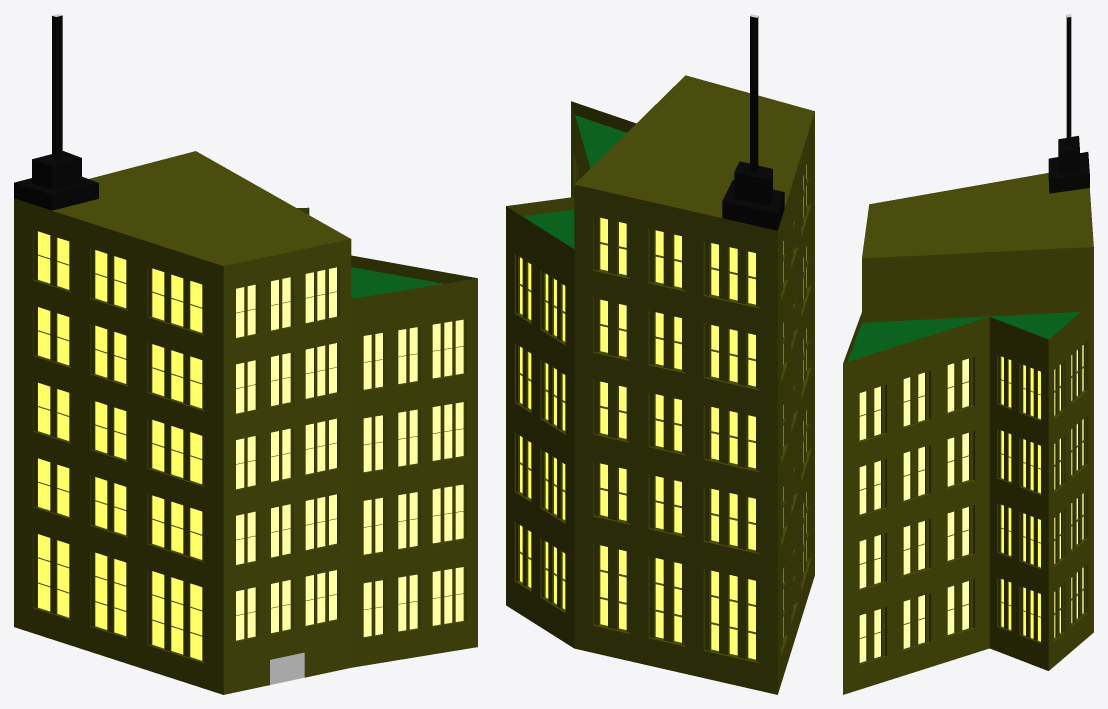
The model's file is 2_el_celebracion_stadium_access_road.fbx.
3 renders of one model, left to right at view 1: azimuth 30°, elevation 25°; view 2: azimuth 150°, elevation 25°; view 3: azimuth 270°, elevation 25°, orthographic. The views are drawn at different scales.
Parts seen in each view (by area): view 1: Plane; view 2: Plane; view 3: Plane.
Part boxes in pixels (x1,y1,x2,y2): Plane: (14, 14, 477, 694); Plane: (506, 14, 814, 694); Plane: (843, 14, 1093, 694).
Size of the model in its own units: 1198 by 2139 by 884.
